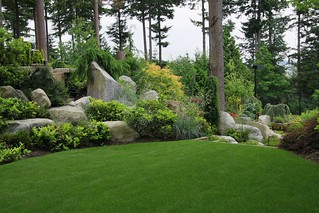grass: (0, 139, 317, 209)
rock: (5, 69, 142, 140), (219, 111, 278, 139), (73, 71, 76, 81)
tree: (207, 0, 223, 109)
